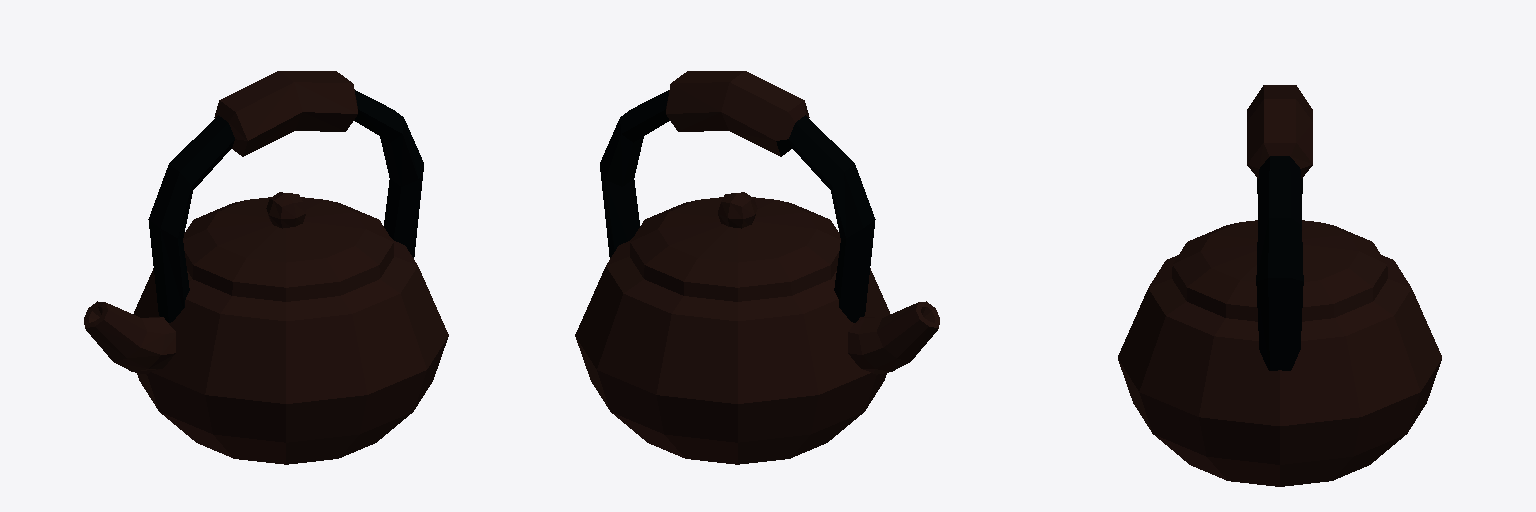
File: teakettle.obj
3 renders of one model, left to right at view 1: azimuth 30°, elevation 25°; view 2: azimuth 150°, elevation 25°; view 3: azimuth 270°, elevation 25°, orthographic.
Visible parts, largest first — view 1: teakettle_Cylinder.292; view 2: teakettle_Cylinder.292; view 3: teakettle_Cylinder.292.
Boxes of the visible parts, <box> form: teakettle_Cylinder.292: <box>84,71,448,464</box>; teakettle_Cylinder.292: <box>575,71,939,464</box>; teakettle_Cylinder.292: <box>1118,85,1441,486</box>.
Size of the model in its own units: 0.6825 by 0.6564 by 0.5614.